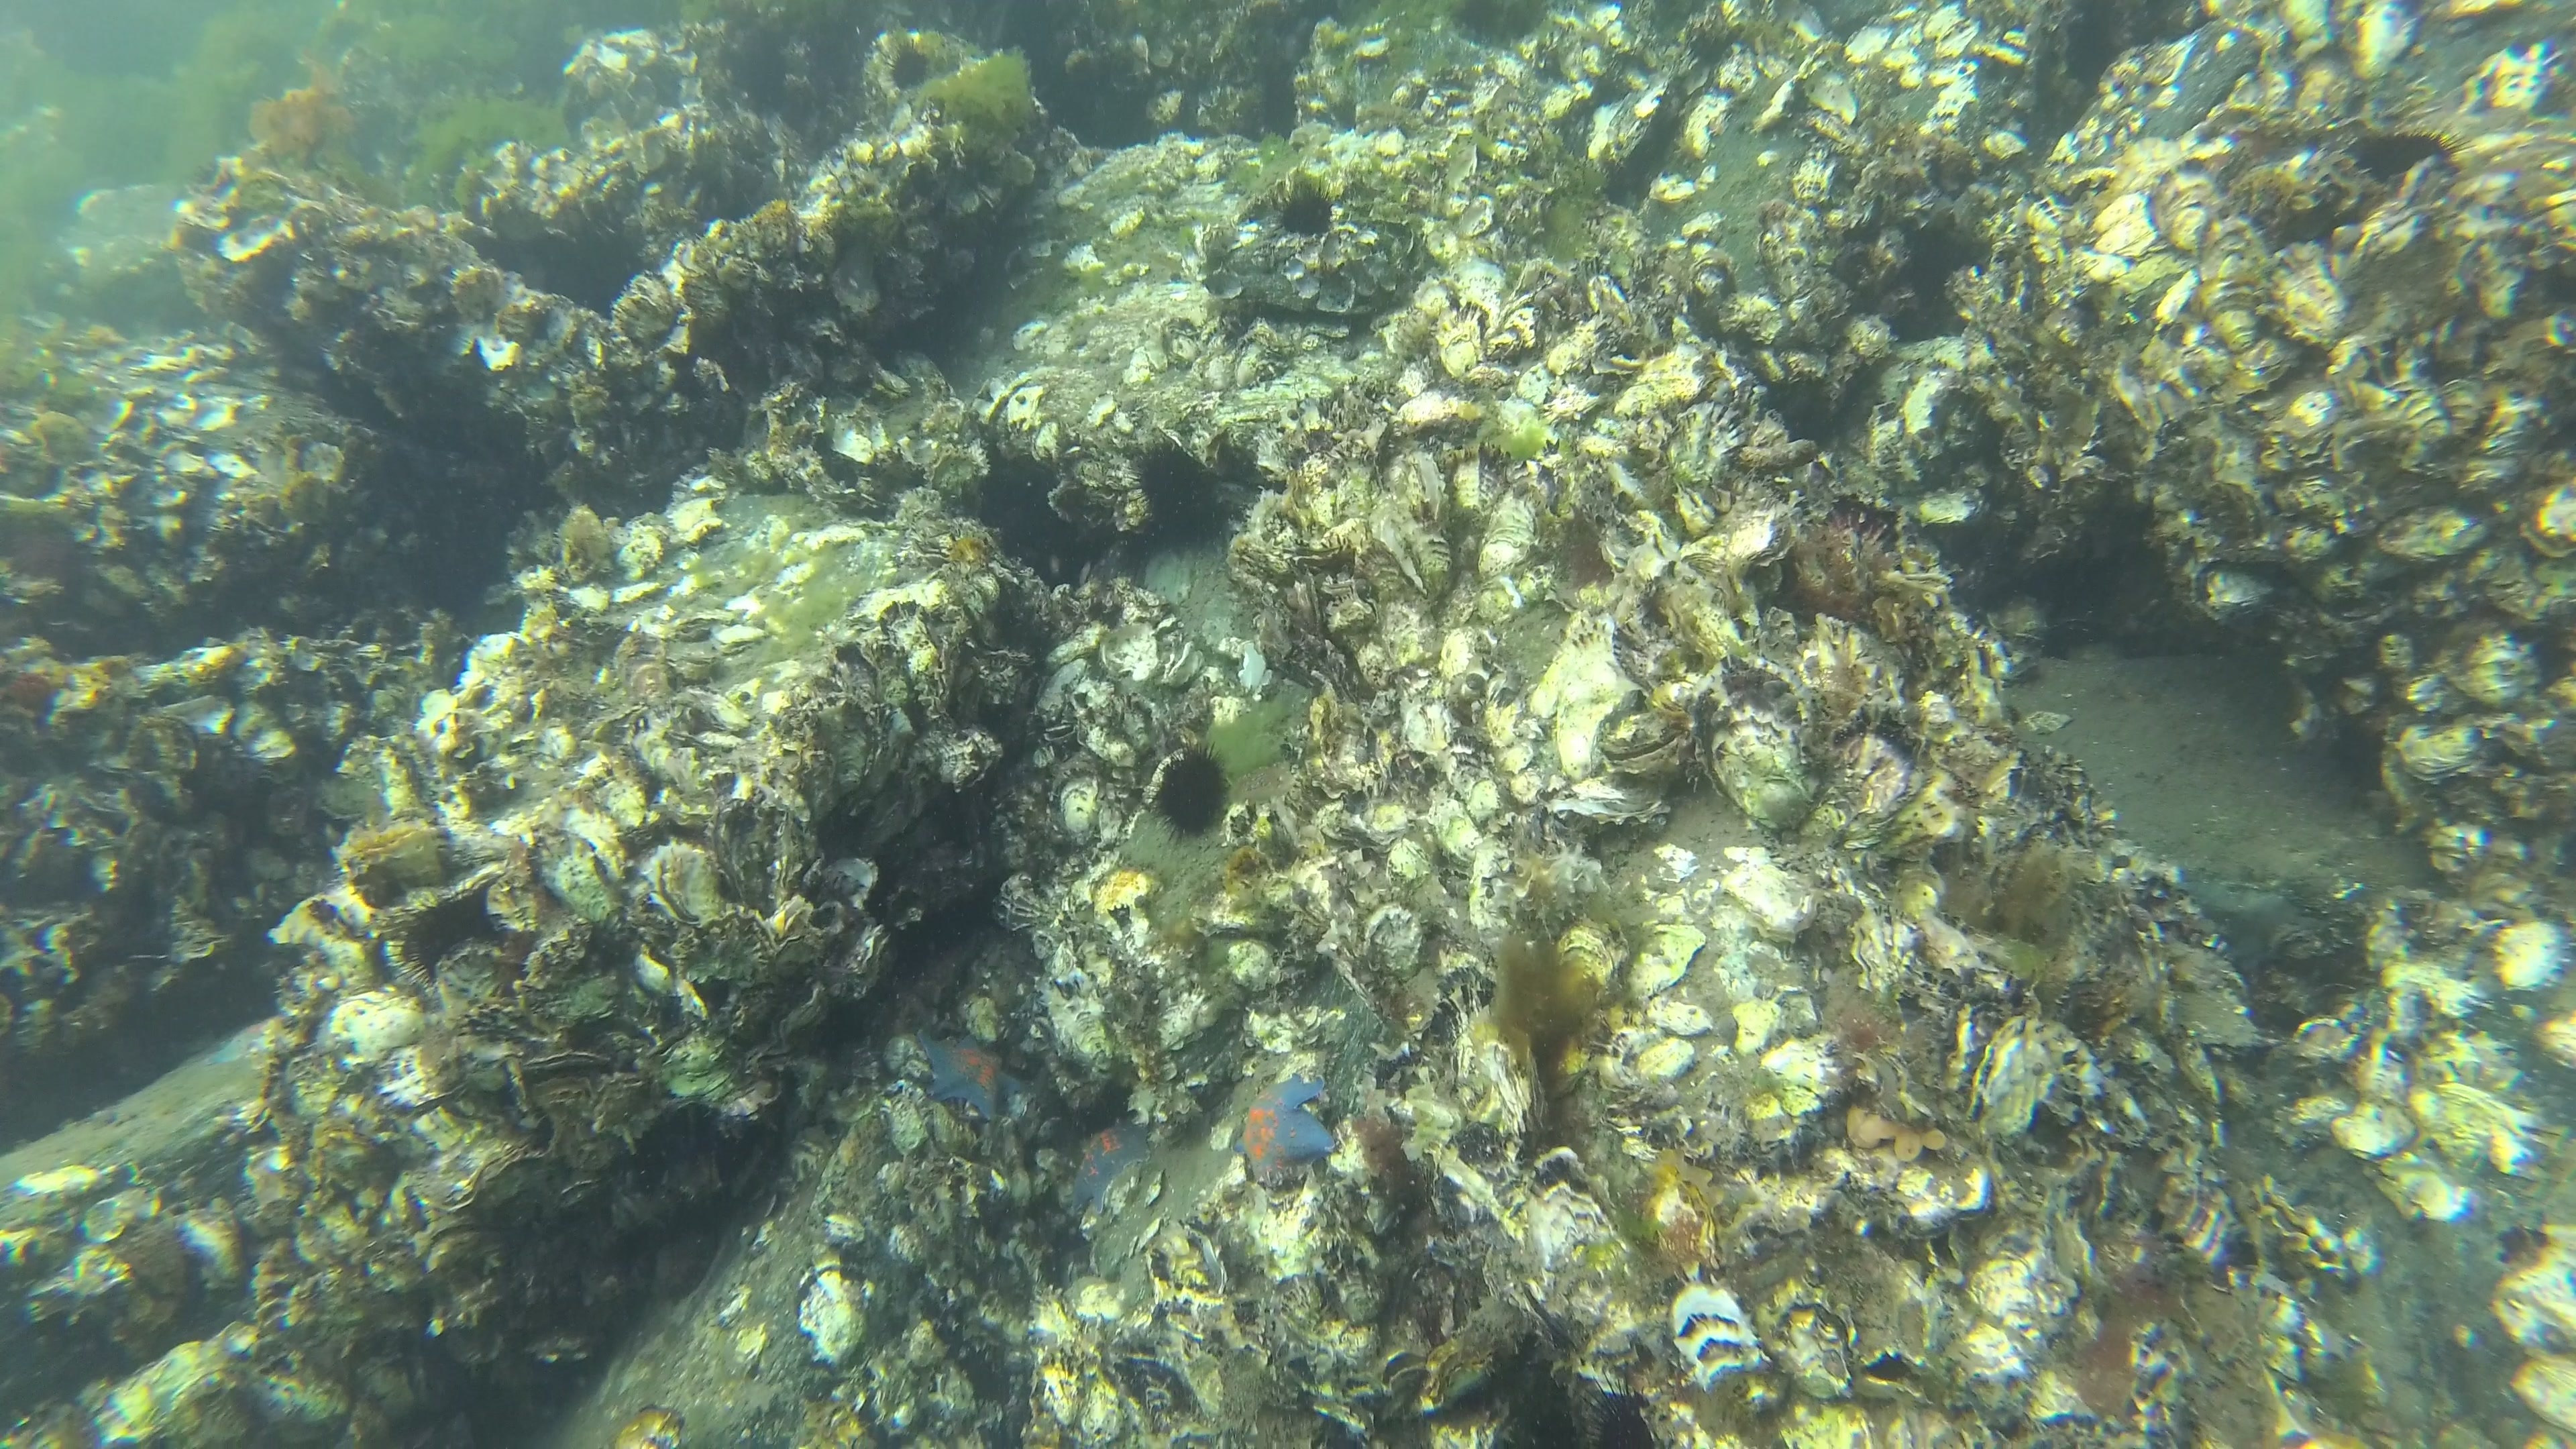echinus: (391, 876, 527, 982), (1127, 435, 1240, 557), (1141, 738, 1238, 851), (1578, 1361, 1661, 1449), (1261, 175, 1341, 249), (876, 30, 936, 97)
starfish: (1226, 1072, 1339, 1187), (915, 1021, 1026, 1129), (1074, 1115, 1157, 1215)
